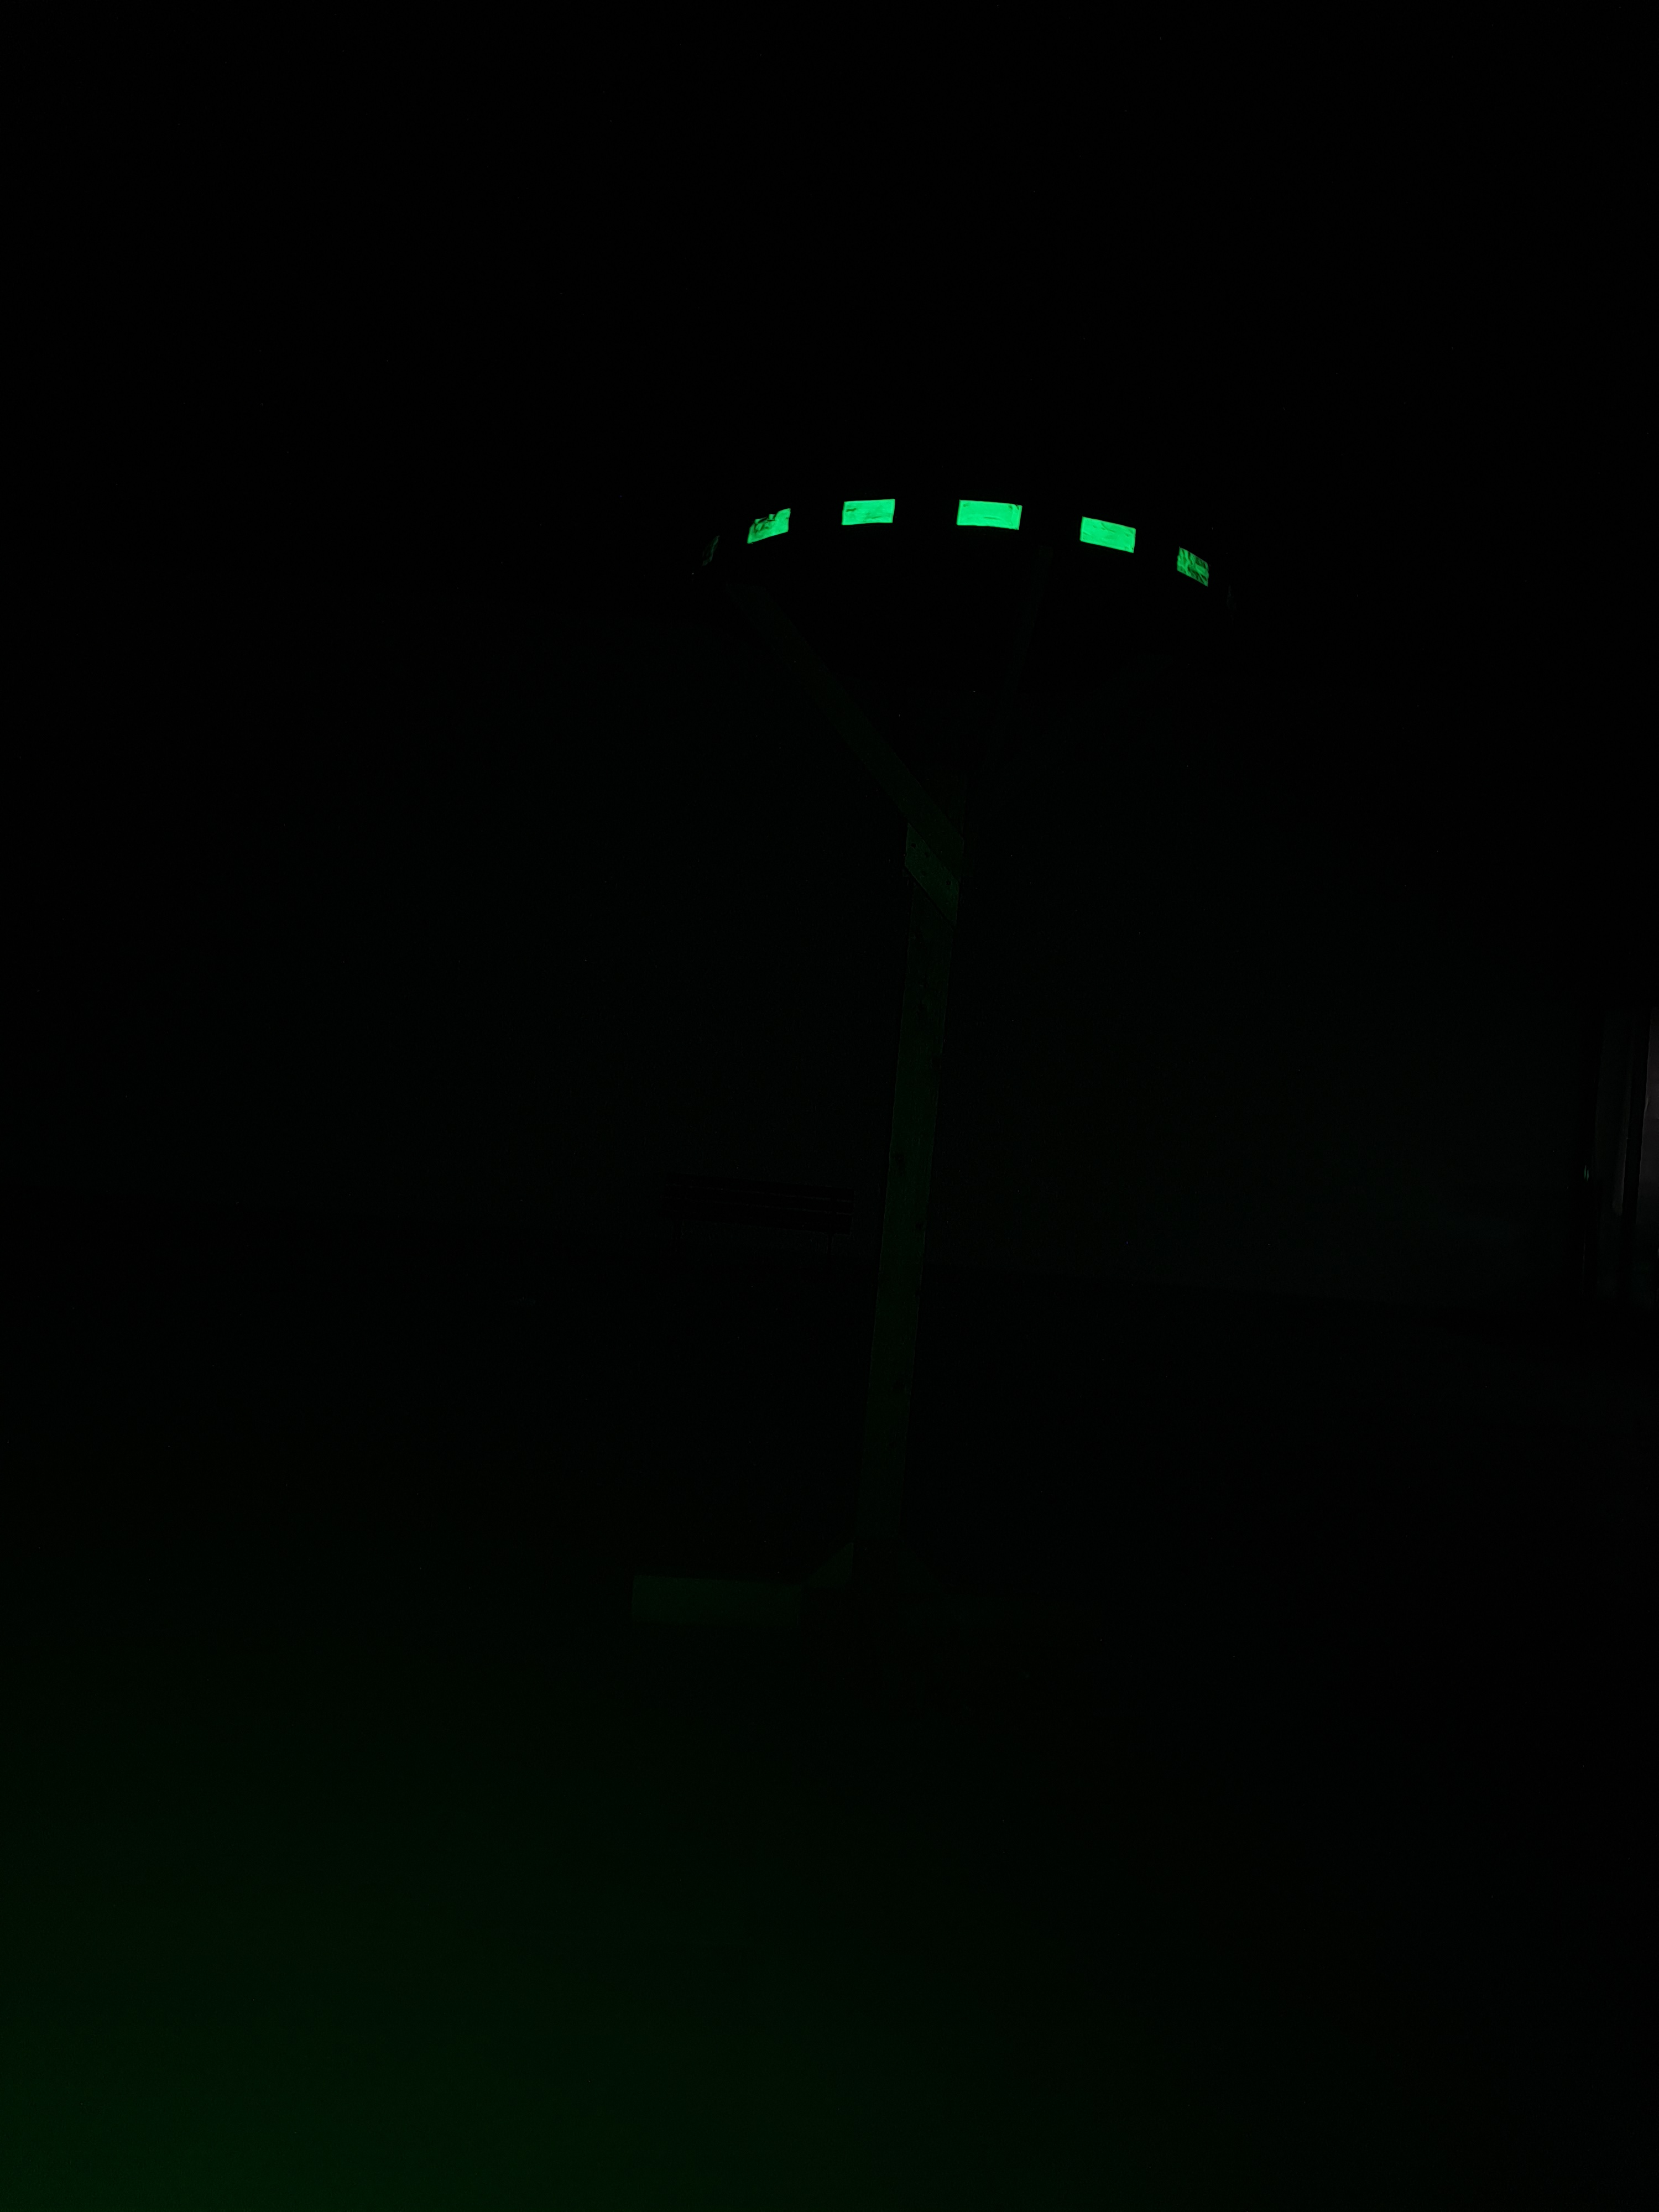hoop: (746, 489, 1213, 592)
